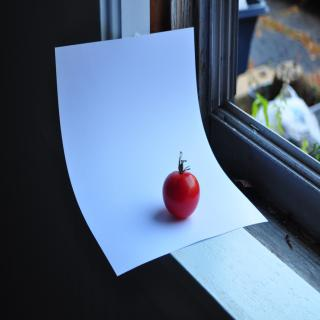tomato: (159, 148, 200, 218)
